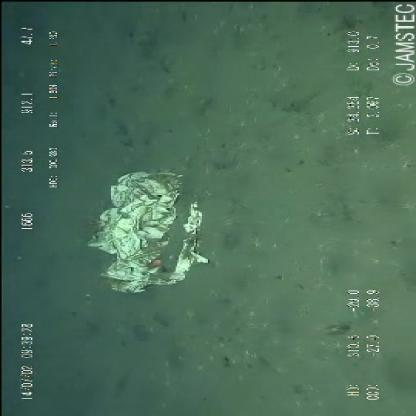Rác: (74, 162, 220, 302)
